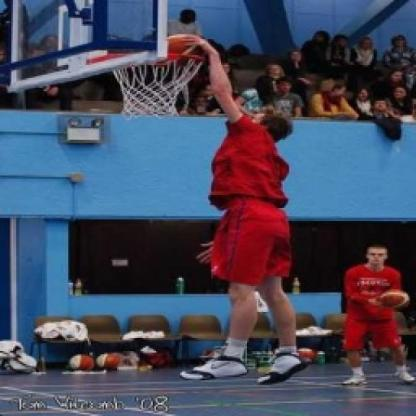basketball: (162, 25, 205, 71)
